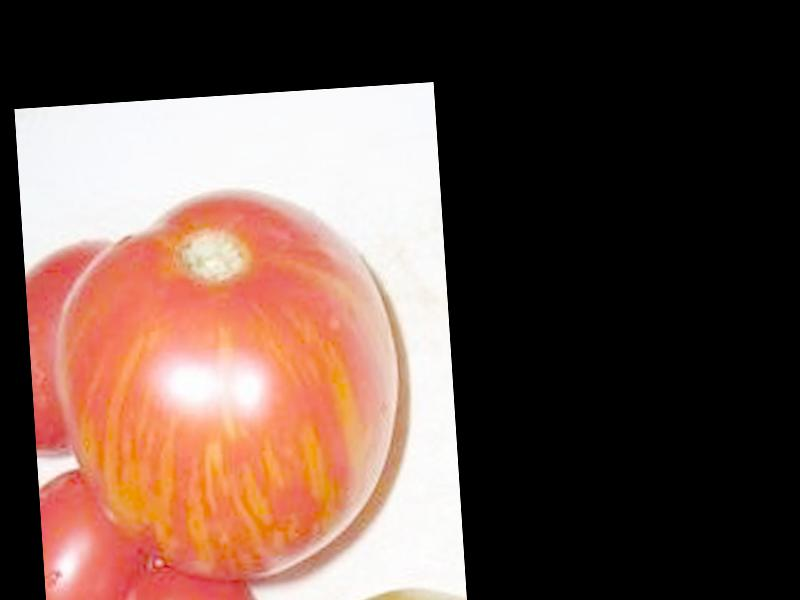Tomato: (43, 175, 411, 593)
